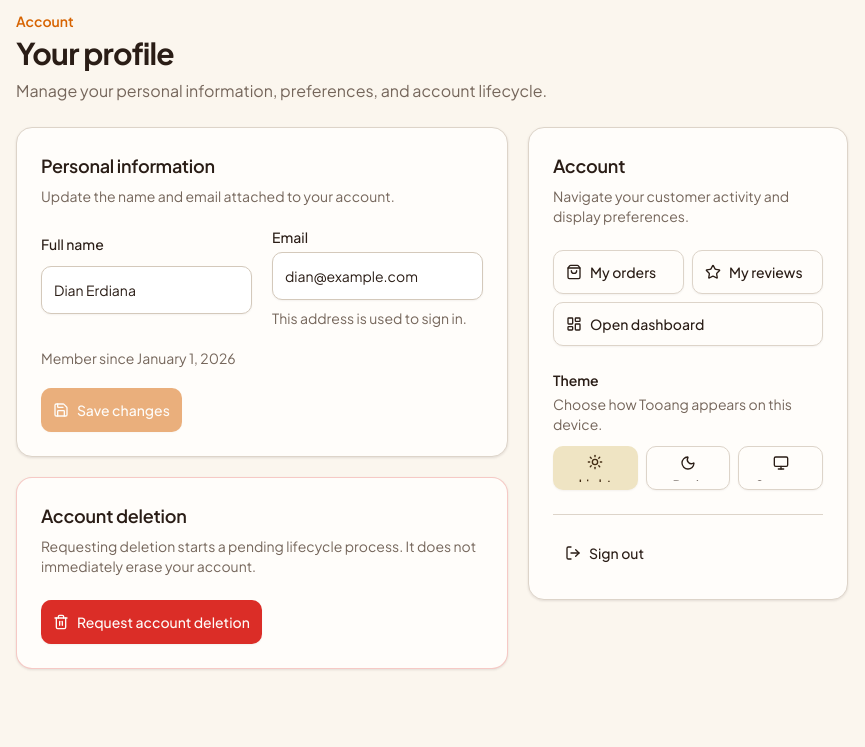
Test case: customer profile page › focuses invalid profile input and preserves duplicate-email input after a 409
Clear the field labelled "Full name": (146, 290) [41,266,252,314]
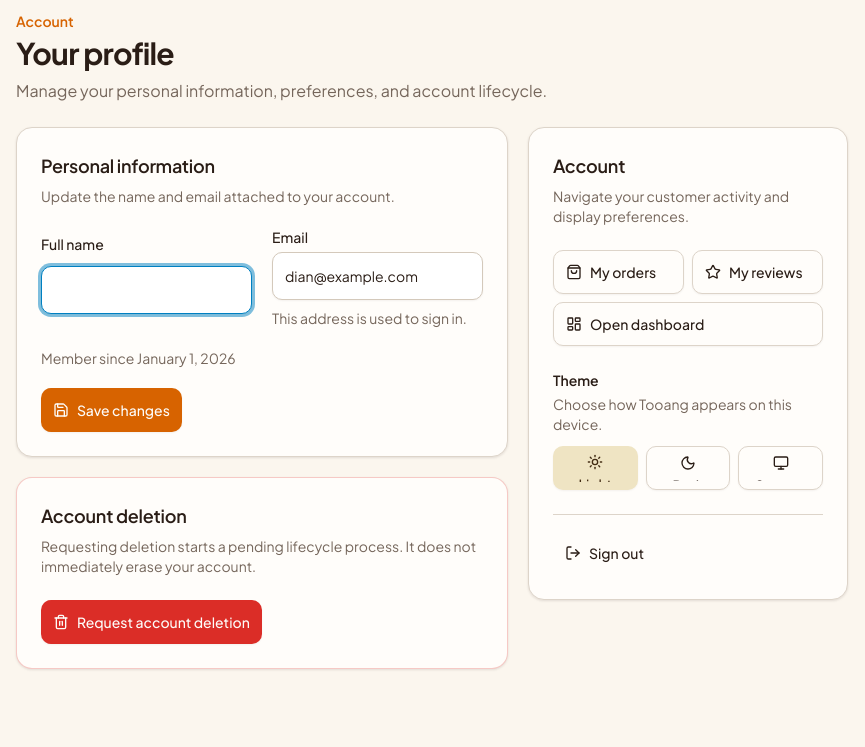
Submit the form named "Save changes", box [41,230,483,432]
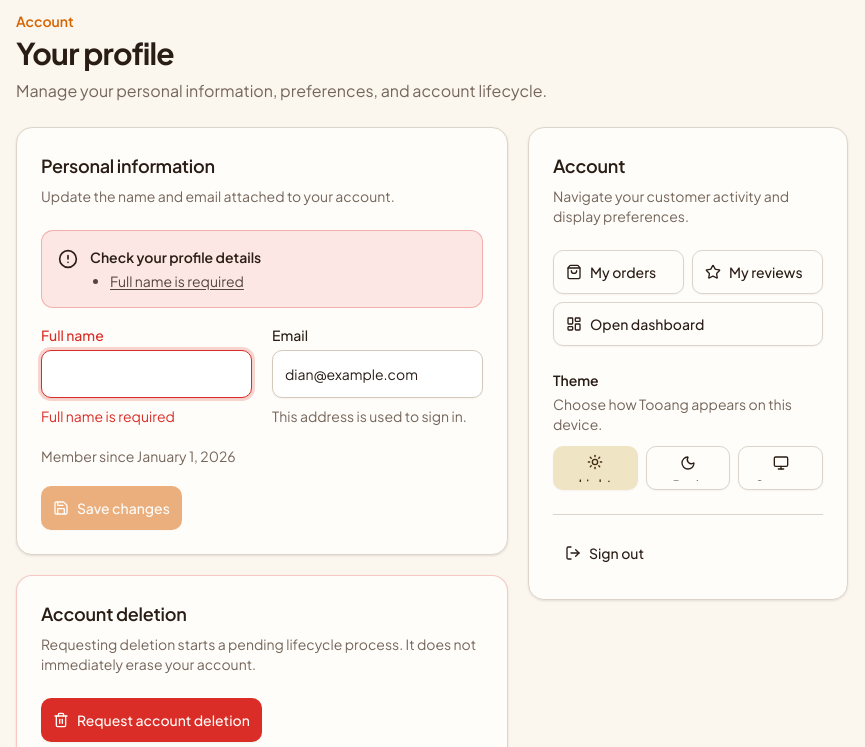
Expected: the number of links "Full name is required" is 2, [110,272,244,290]; [41,407,175,425]
In the field labelled "Full name": (146, 374) [41,350,252,398], type "Dian Erdiana"
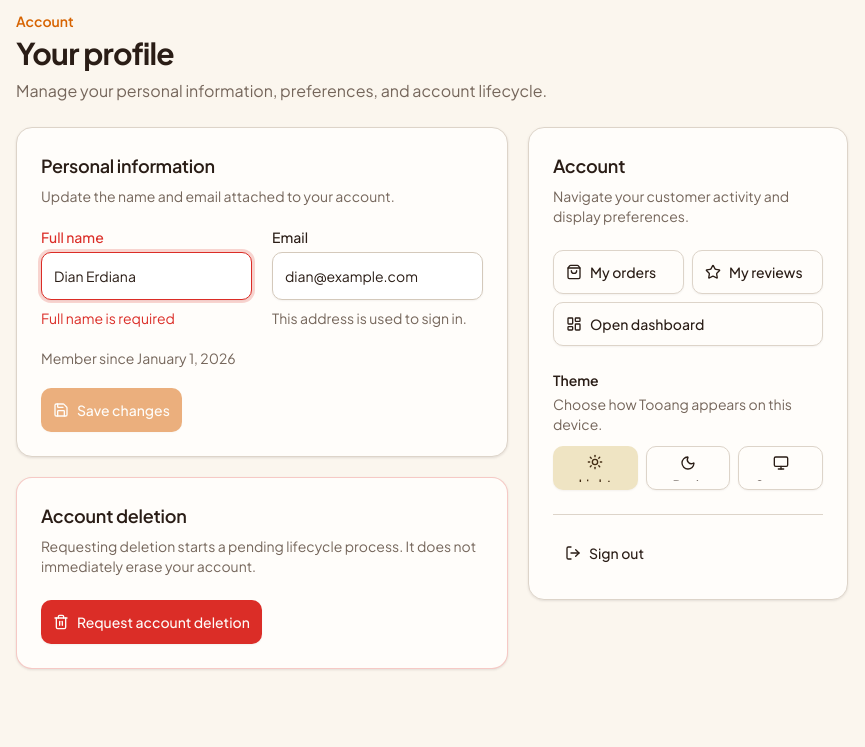
Replace the text in the field labelled "Email" with "used@example.com": (378, 276) [272,252,483,300]
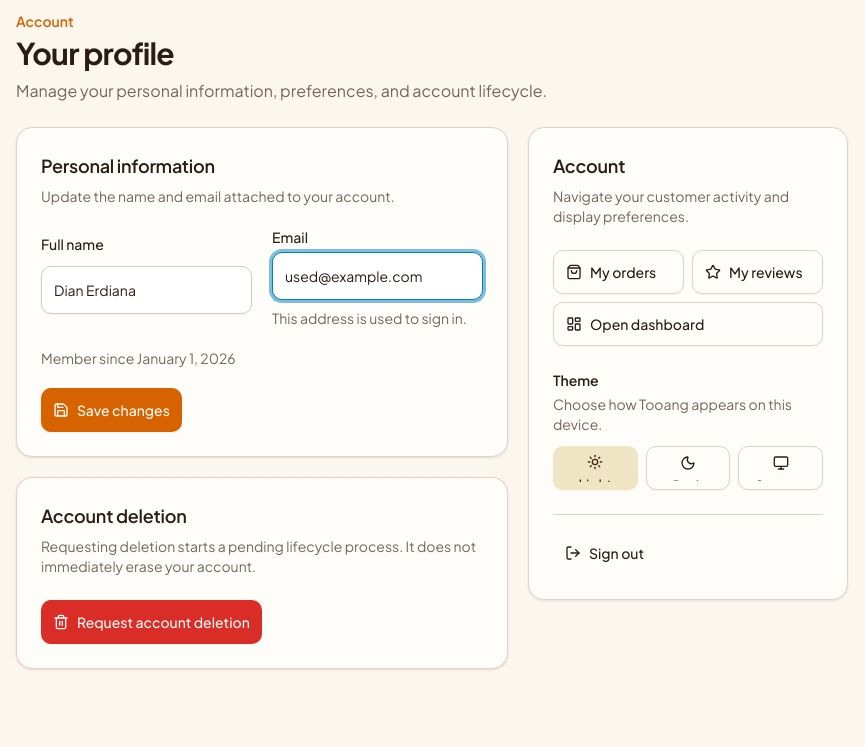
Click the button "Save changes": (111, 410) [41,388,182,432]
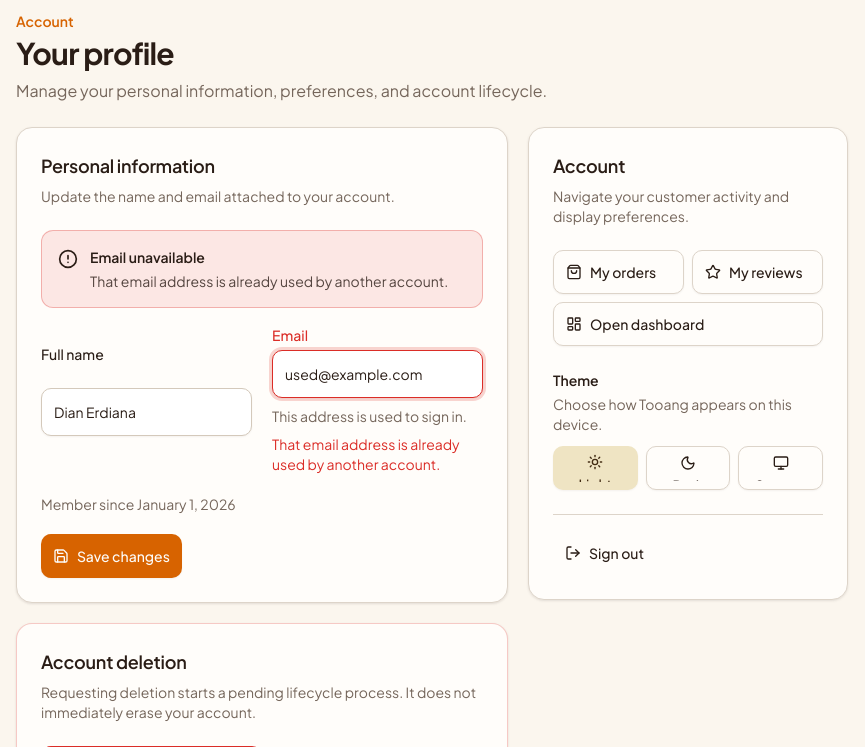
Expected: the text "Email unavailable" is shown, [90,248,205,266]
